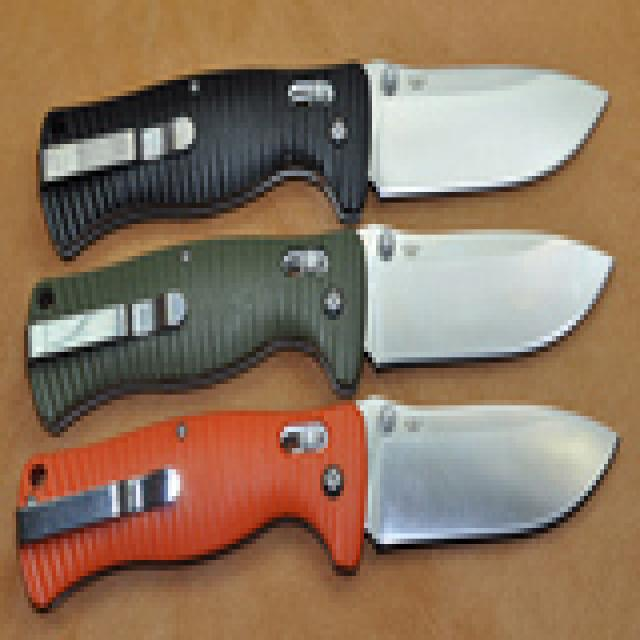Knife: (14, 41, 622, 594)
